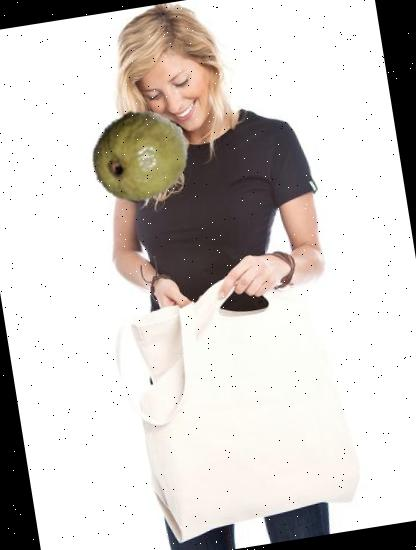Guava: (84, 99, 197, 212)
